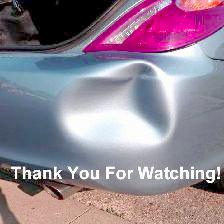bumper_dent: (46, 59, 192, 156)
